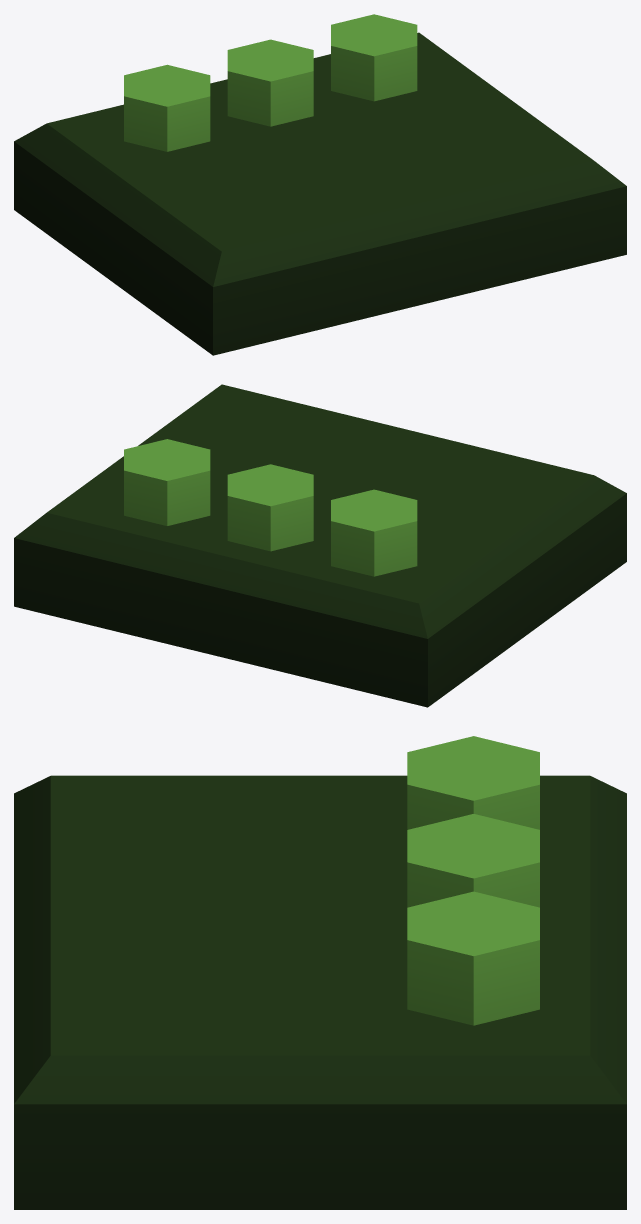
The model's file is efficiency-module-2.glb.
3 views of the same model, one above another, from view 1: azimuth 30°, elevation 25°; view 2: azimuth 150°, elevation 25°; view 3: azimuth 270°, elevation 25° (orthographic). The views are drawn at different scales.
Visible parts, largest first — view 1: efficiency-module-2; view 2: efficiency-module-2; view 3: efficiency-module-2.
Part boxes in pixels (left/top/right/bottom): efficiency-module-2: left=14, top=14, right=626, bottom=355; efficiency-module-2: left=14, top=384, right=626, bottom=707; efficiency-module-2: left=14, top=736, right=626, bottom=1209.
Size of the model in its own units: 0.24 by 0.075 by 0.2.
